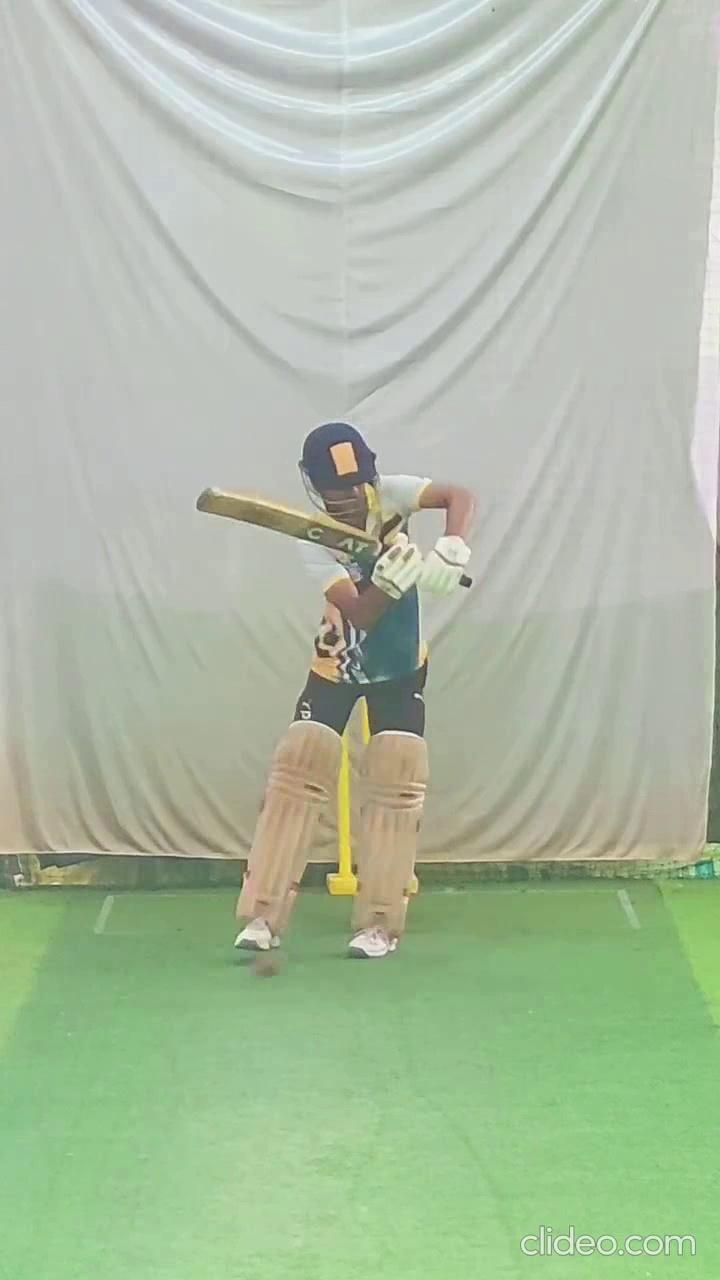bat: (188, 470, 383, 577)
